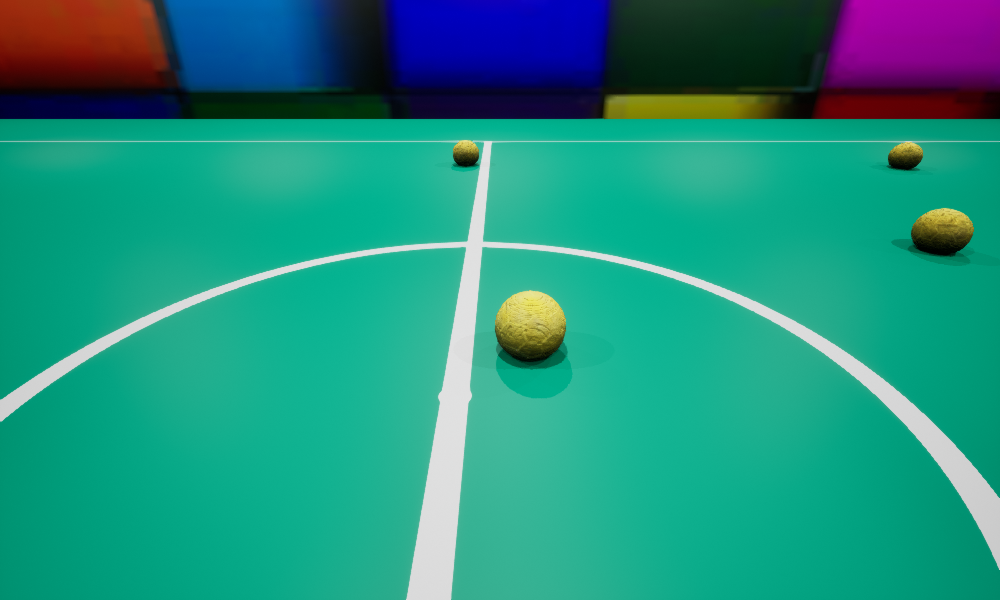b: (495, 290, 565, 361), (911, 208, 973, 253), (888, 142, 922, 168), (453, 140, 478, 165)
